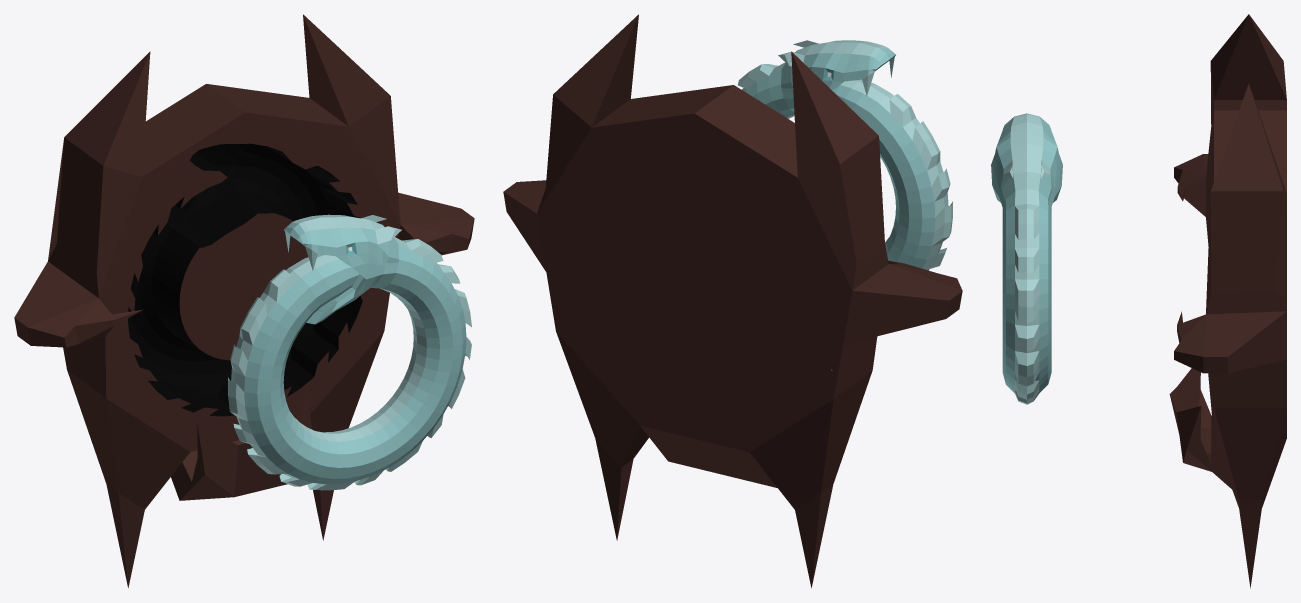
File: ouroboros.fbx
The picture shows the model from 3 angles, left to right: view 1: azimuth 30°, elevation 25°; view 2: azimuth 150°, elevation 25°; view 3: azimuth 270°, elevation 25°; orthographic projection. The views are drawn at different scales.
Visible parts, largest first — view 1: Pedestal, Snake Part 6 (Head), Snake Part 2, Snake Part 4, Snake Part 3, Snake Part 5, Snake Part 1 (Tail); view 2: Pedestal, Snake Part 2, Snake Part 6 (Head), Snake Part 1 (Tail); view 3: Pedestal, Snake Part 6 (Head), Snake Part 5, Snake Part 4.
Boxes of the visible parts, x1,y1,x2,y2 form: Pedestal: (14, 14, 474, 587); Snake Part 6 (Head): (284, 214, 443, 324); Snake Part 2: (228, 297, 298, 457); Snake Part 4: (352, 358, 465, 485); Snake Part 3: (247, 418, 373, 490); Snake Part 5: (397, 263, 471, 372); Snake Part 1 (Tail): (260, 254, 359, 333); Pedestal: (503, 14, 962, 588); Snake Part 2: (881, 121, 952, 270); Snake Part 6 (Head): (738, 40, 895, 118); Snake Part 1 (Tail): (832, 79, 919, 158); Pedestal: (1169, 14, 1286, 588); Snake Part 6 (Head): (991, 113, 1062, 239); Snake Part 5: (1002, 233, 1051, 352); Snake Part 4: (1002, 338, 1051, 404).
Bounding box in the file's own units: 490 × 558 × 302.
Materials: 2 (2 with a texture image).
